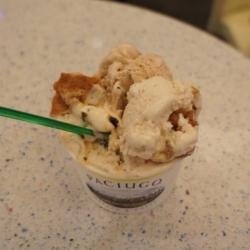icecream: (44, 49, 208, 174)
